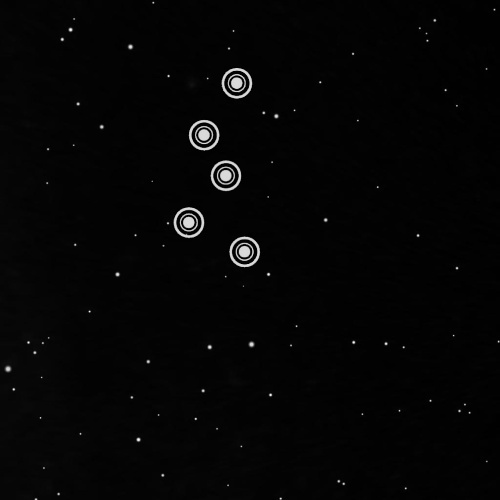cassiopeia: (162, 56, 270, 278)
